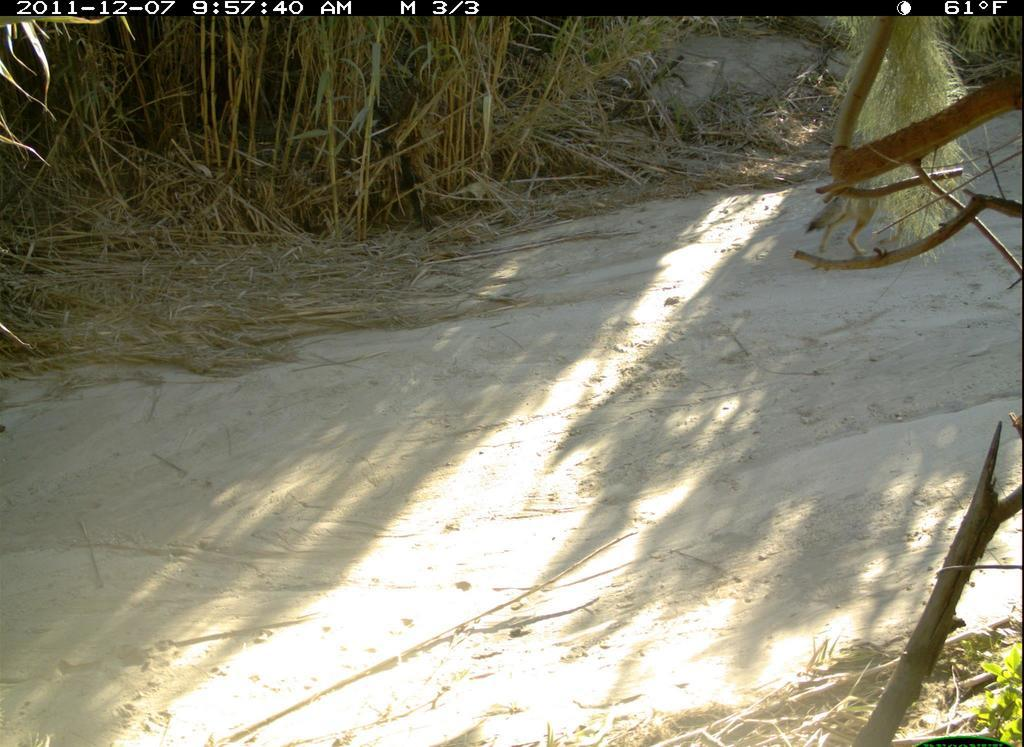coyote: (813, 162, 909, 259)
